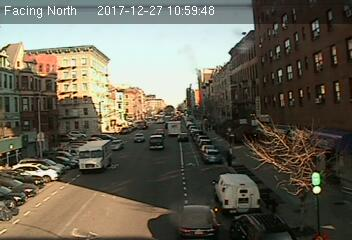car: (230, 207, 290, 240), (176, 203, 222, 237), (149, 134, 164, 150), (205, 149, 220, 161), (110, 139, 123, 150), (133, 133, 146, 143), (176, 133, 189, 143)
truck: (210, 173, 260, 212), (78, 140, 112, 173), (166, 120, 180, 135)
